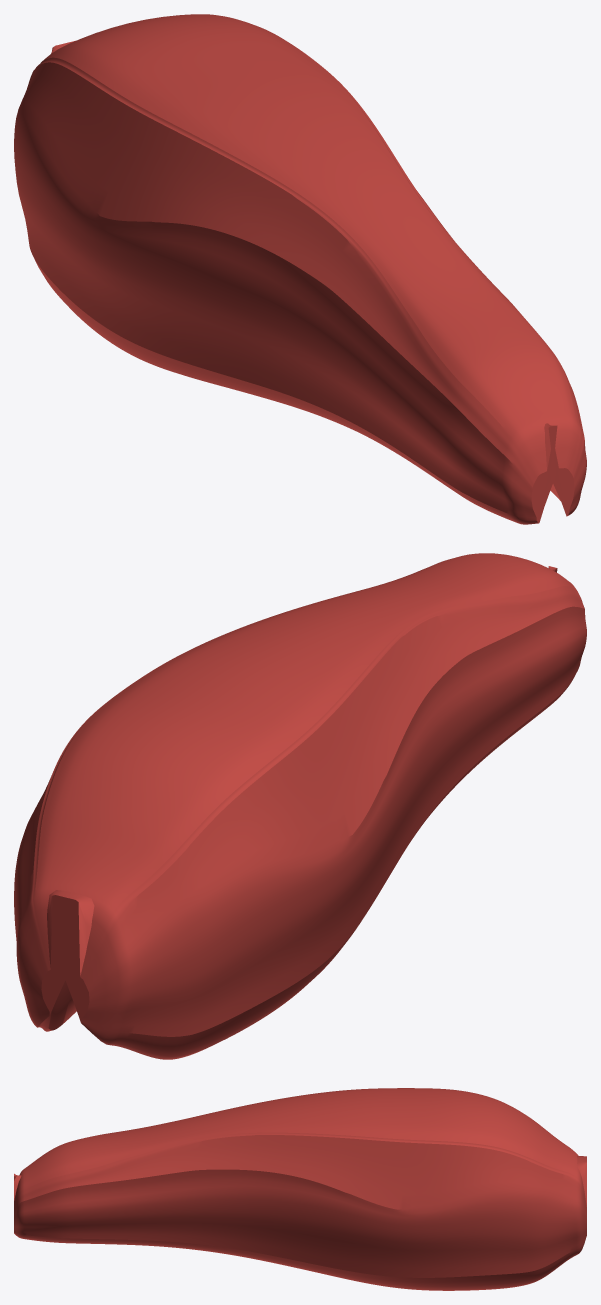
Rendered from cruiser_5.glb.
3 views of the same model, one above another, from view 1: azimuth 30°, elevation 25°; view 2: azimuth 150°, elevation 25°; view 3: azimuth 270°, elevation 25° (orthographic). The views are drawn at different scales.
Visible parts, largest first — view 1: lod0; view 2: lod0; view 3: lod0.
Part boxes in pixels (x1=…): lod0: x1=14, y1=14, x2=586, y2=524; lod0: x1=14, y1=553, x2=586, y2=1059; lod0: x1=14, y1=1088, x2=586, y2=1290.
Size of what is drawn, in the model's own units: 0.3227 by 0.3365 by 1.06.
